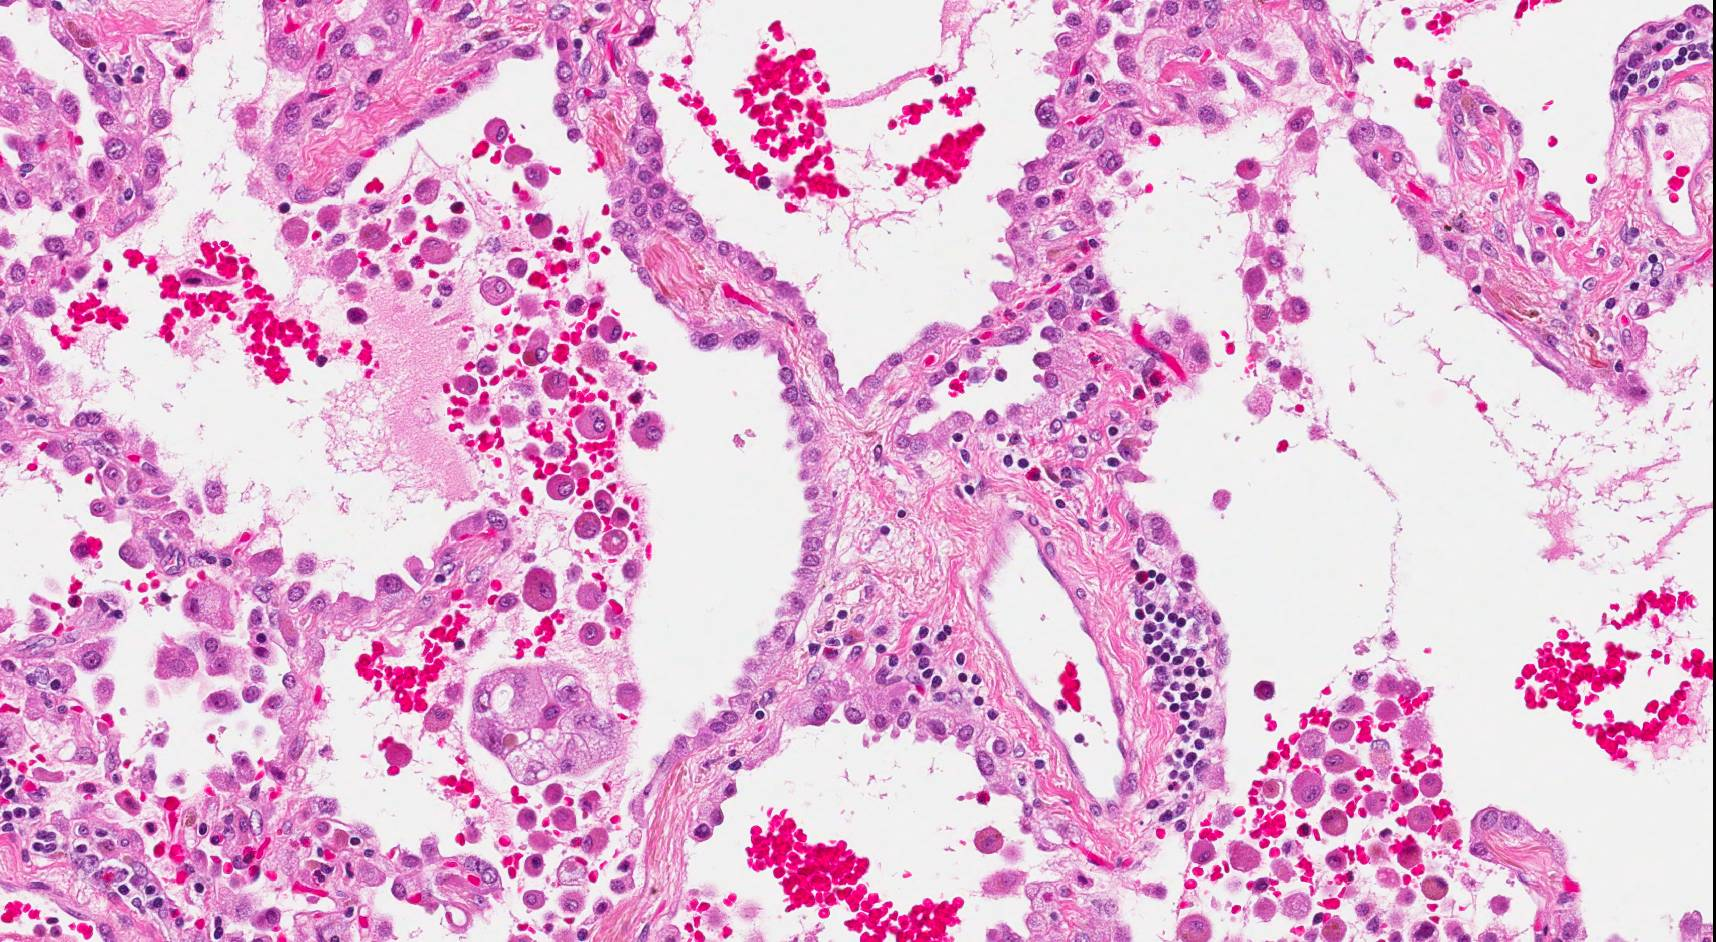stas: (469, 662, 627, 787)
